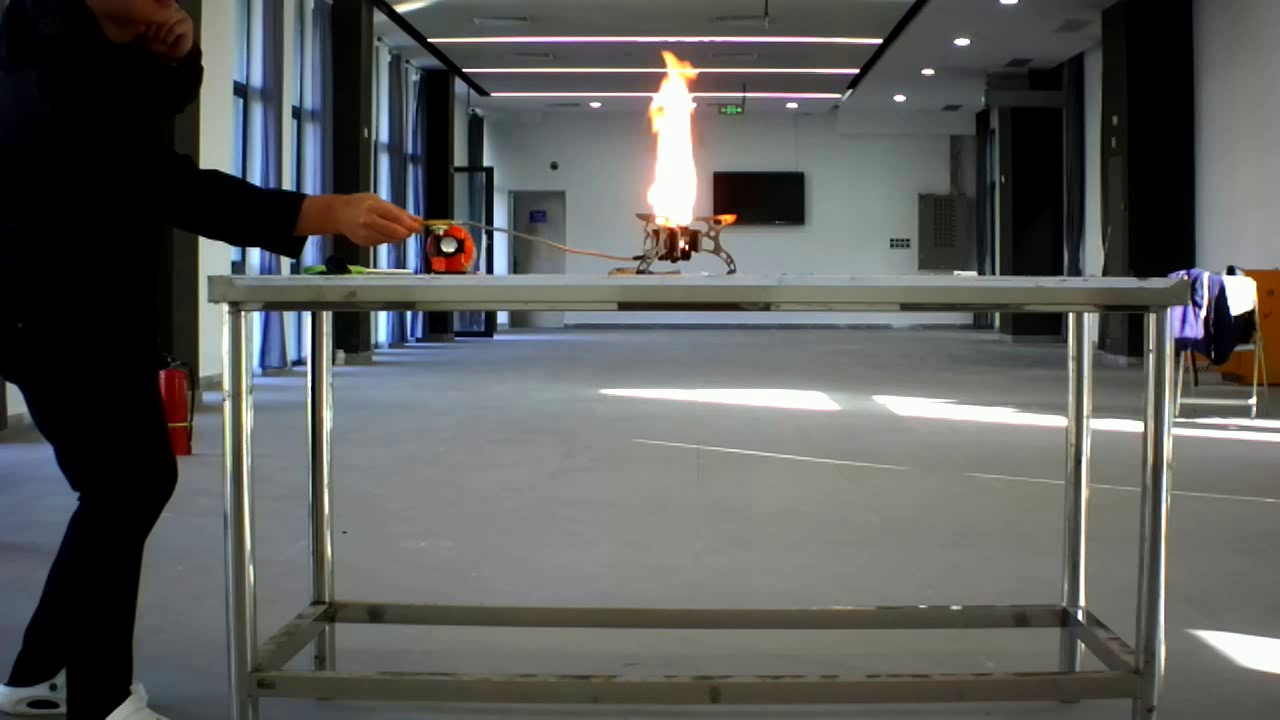Fire: (620, 43, 738, 264)
